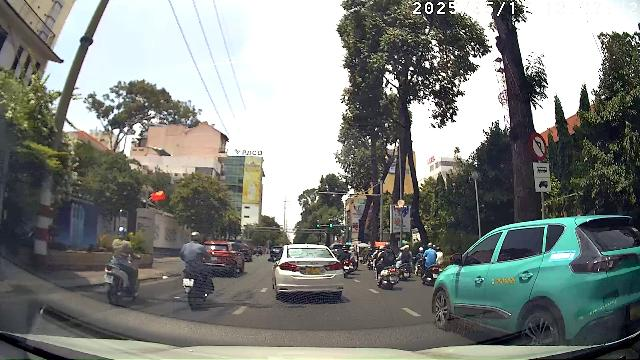123a-cam-re-trai: (529, 132, 547, 161)
